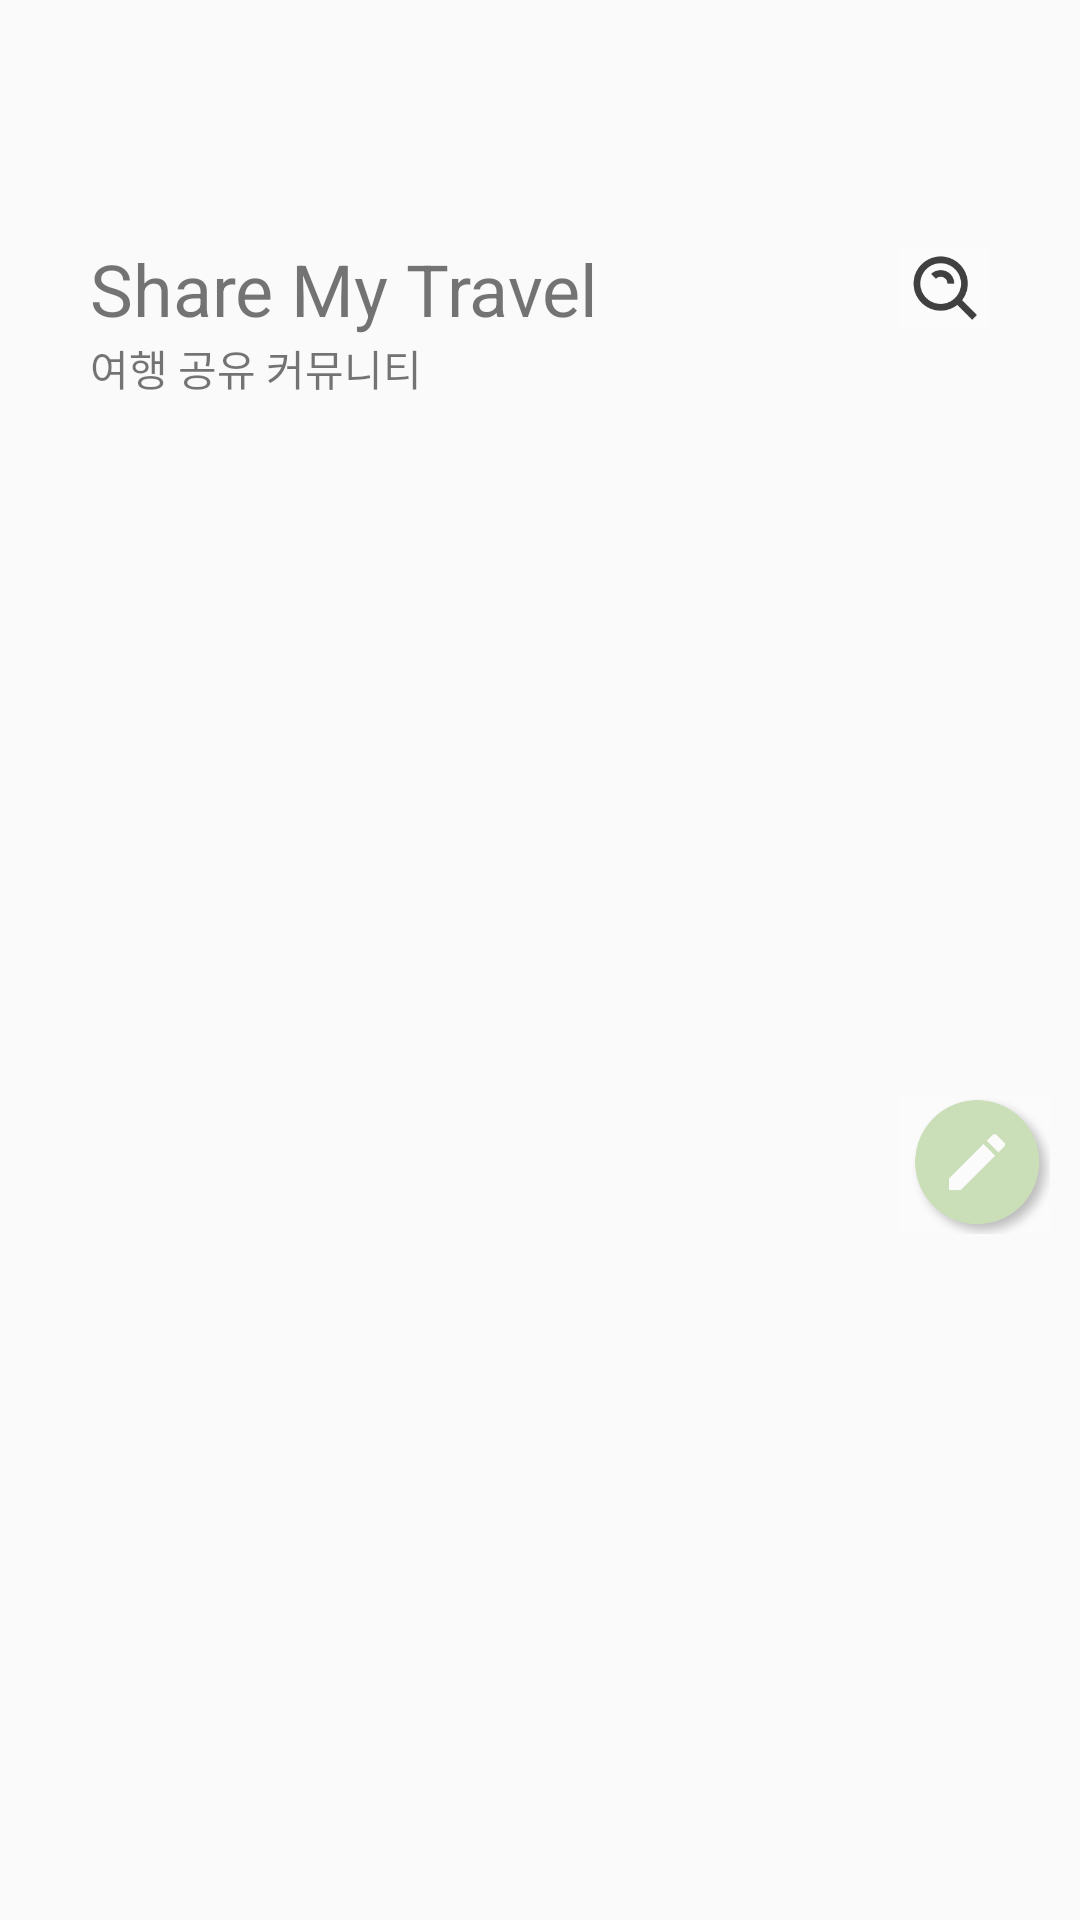

Screen size 1080px x 1920px. Icon name, then its box in pixels as (x1, y1, x2, y2):
imgwrite: (915, 1100, 1047, 1232)
search: (913, 256, 977, 320)
